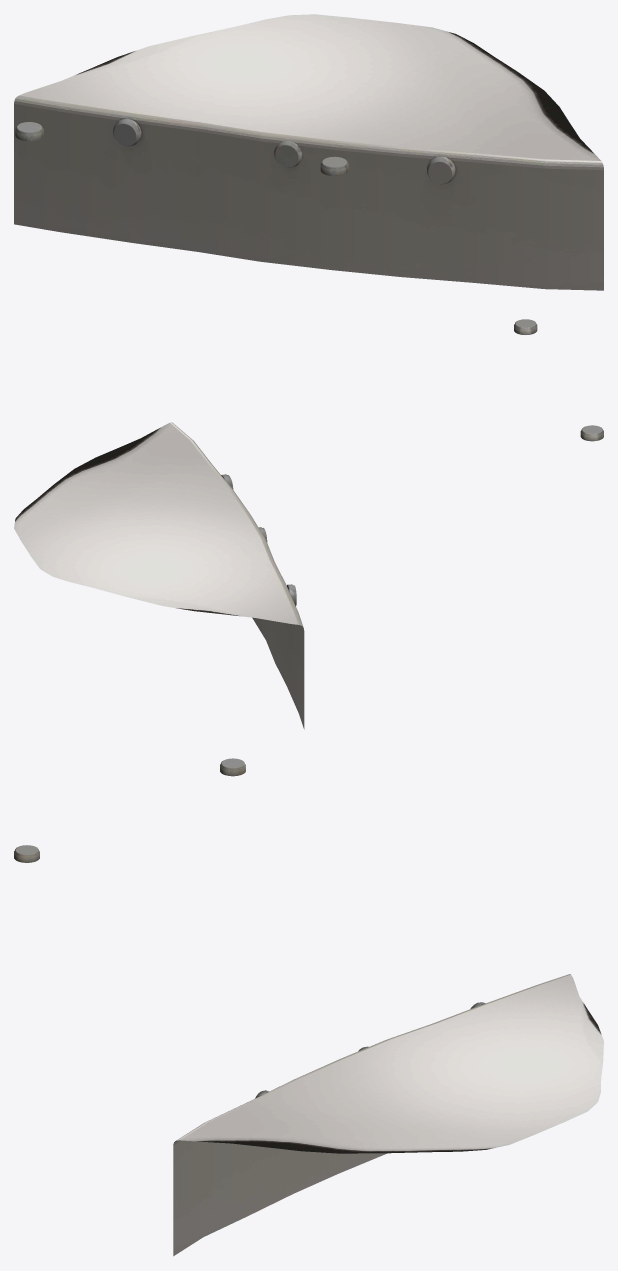
File: YuGang2.FBX
The picture shows the model from 3 angles, top to bottom: view 1: azimuth 30°, elevation 25°; view 2: azimuth 150°, elevation 25°; view 3: azimuth 270°, elevation 25°; orthographic projection. The views are drawn at different scales.
Parts seen in each view (by area): view 1: YuGang2; view 2: YuGang2; view 3: YuGang2.
Boxes of the visible parts, box(x1,y1,x2,y2) form: YuGang2: box(14, 14, 603, 290); YuGang2: box(14, 319, 603, 729); YuGang2: box(14, 758, 603, 1256).
Bounding box in the file's own units: 0.9655 × 0.4291 × 0.9173.
